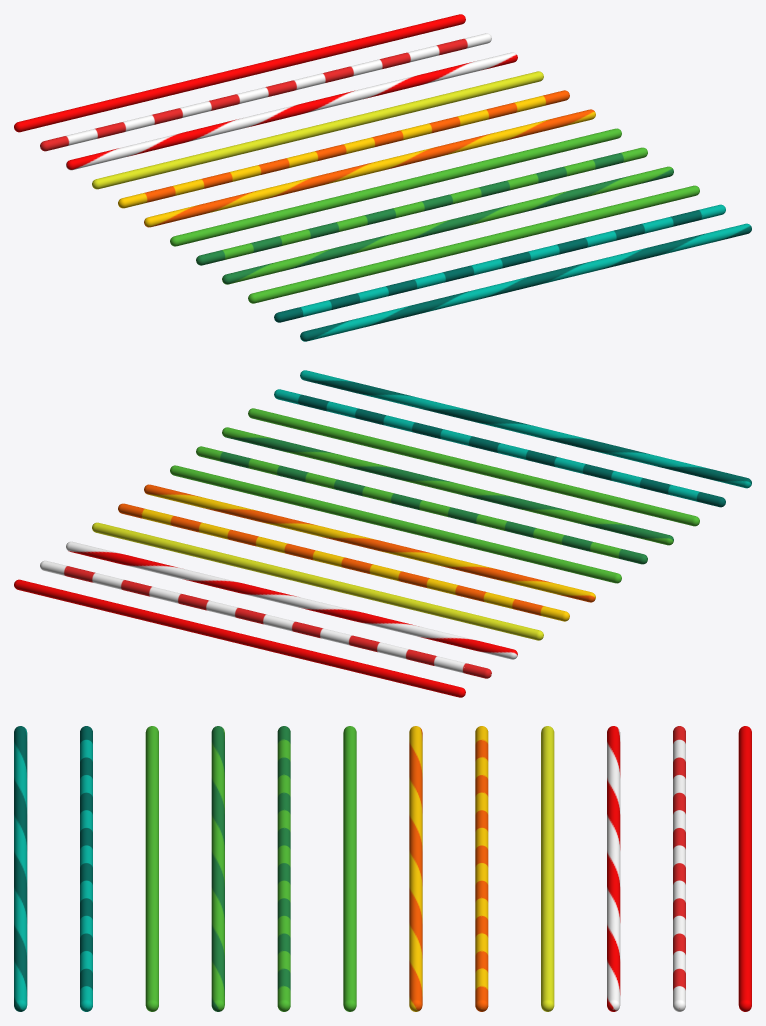
File: ropes_ex.fbx
The picture shows the model from 3 angles, top to bottom: view 1: azimuth 30°, elevation 25°; view 2: azimuth 150°, elevation 25°; view 3: azimuth 270°, elevation 25°; orthographic projection. The views are drawn at different scales.
Parts seen in each view (by area): view 1: rope_C_Twist, rope_RW_Solid, rope_G_Solid, rope_YB_Twist, rope_G_Title, rope_RW_Title, rope_C_Solid, rope_G_Title_2, rope_YB_Title, rope_RW_Twist_2, rope_RW_Twist, rope_YB_Solid; view 2: rope_C_Twist, rope_RW_Solid, rope_G_Solid, rope_YB_Twist, rope_G_Title, rope_RW_Title, rope_C_Solid, rope_G_Title_2, rope_YB_Title, rope_RW_Twist_2, rope_RW_Twist, rope_YB_Solid; view 3: rope_C_Twist, rope_G_Solid, rope_RW_Twist, rope_YB_Twist, rope_YB_Solid, rope_RW_Solid, rope_C_Solid, rope_G_Title_2, rope_YB_Title, rope_RW_Twist_2, rope_G_Title, rope_RW_Title.
Part boxes in pixels (box(x1,y1,x2,y2)): rope_C_Twist: box(300, 223, 751, 341); rope_RW_Solid: box(14, 14, 465, 132); rope_G_Solid: box(170, 128, 621, 246); rope_YB_Twist: box(144, 109, 595, 227); rope_G_Title: box(274, 204, 725, 322); rope_RW_Title: box(40, 33, 491, 151); rope_C_Solid: box(248, 185, 699, 303); rope_G_Title_2: box(196, 147, 647, 265); rope_YB_Title: box(118, 90, 569, 208); rope_RW_Twist_2: box(66, 52, 517, 170); rope_RW_Twist: box(222, 166, 673, 284); rope_YB_Solid: box(92, 71, 543, 189); rope_C_Twist: box(300, 370, 751, 488); rope_RW_Solid: box(14, 579, 465, 697); rope_G_Solid: box(170, 465, 621, 583); rope_YB_Twist: box(144, 484, 595, 602); rope_G_Title: box(274, 389, 725, 507); rope_RW_Title: box(40, 560, 491, 678); rope_C_Solid: box(248, 408, 699, 526); rope_G_Title_2: box(196, 446, 647, 564); rope_YB_Title: box(118, 503, 569, 621); rope_RW_Twist_2: box(66, 541, 517, 659); rope_RW_Twist: box(222, 427, 673, 545); rope_YB_Solid: box(92, 522, 543, 640); rope_C_Twist: box(14, 726, 27, 1011); rope_G_Solid: box(343, 726, 356, 1011); rope_RW_Twist: box(211, 726, 224, 1011); rope_YB_Twist: box(409, 726, 422, 1011); rope_YB_Solid: box(541, 726, 554, 1011); rope_RW_Solid: box(738, 726, 751, 1011); rope_C_Solid: box(145, 726, 158, 1011); rope_G_Title_2: box(277, 726, 290, 1011); rope_YB_Title: box(475, 726, 488, 1011); rope_RW_Twist_2: box(607, 726, 620, 1011); rope_G_Title: box(80, 726, 92, 1011); rope_RW_Title: box(673, 726, 685, 1011).
Bounding box in the file's own units: 200 × 4 × 224.
Materials: 12 (8 with a texture image).
